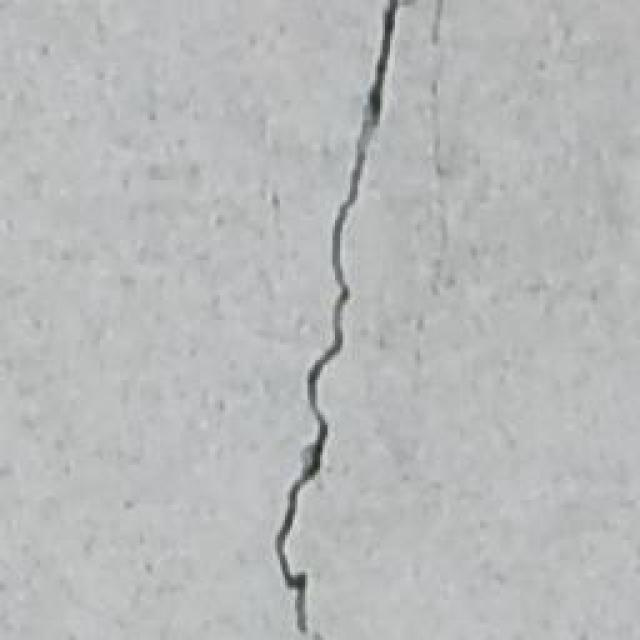concrete-crack: (275, 0, 402, 632)
